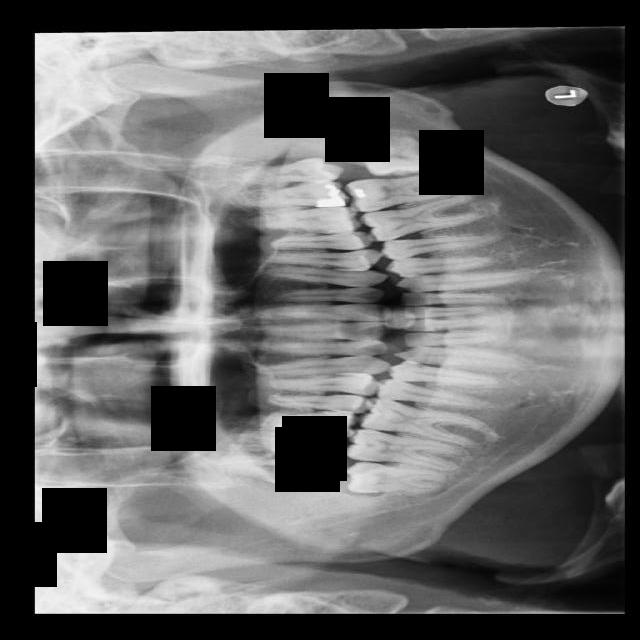3M ESPE Implant: (213, 450, 321, 489)
52: (344, 172, 397, 217), (300, 178, 354, 209), (366, 443, 374, 446)
73: (530, 52, 546, 54)
BioHorizons Implant: (232, 179, 352, 208)
BioLife Implant: (232, 157, 346, 182)
Biomet 3i Implant: (357, 132, 435, 176)
Blue Sky Bio Implant: (345, 166, 469, 214)
Caries: (218, 424, 345, 469)
Implant: (341, 424, 467, 477)
Keystone Dental Implant: (344, 460, 449, 494)
